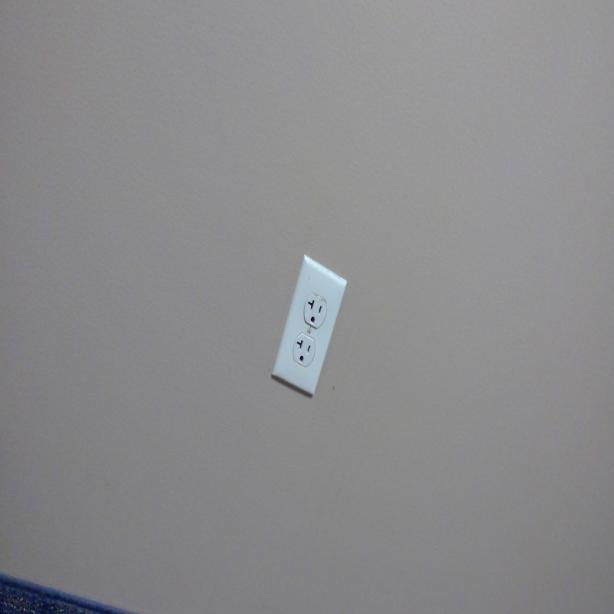typeb: (294, 330, 314, 369), (306, 291, 326, 329)
